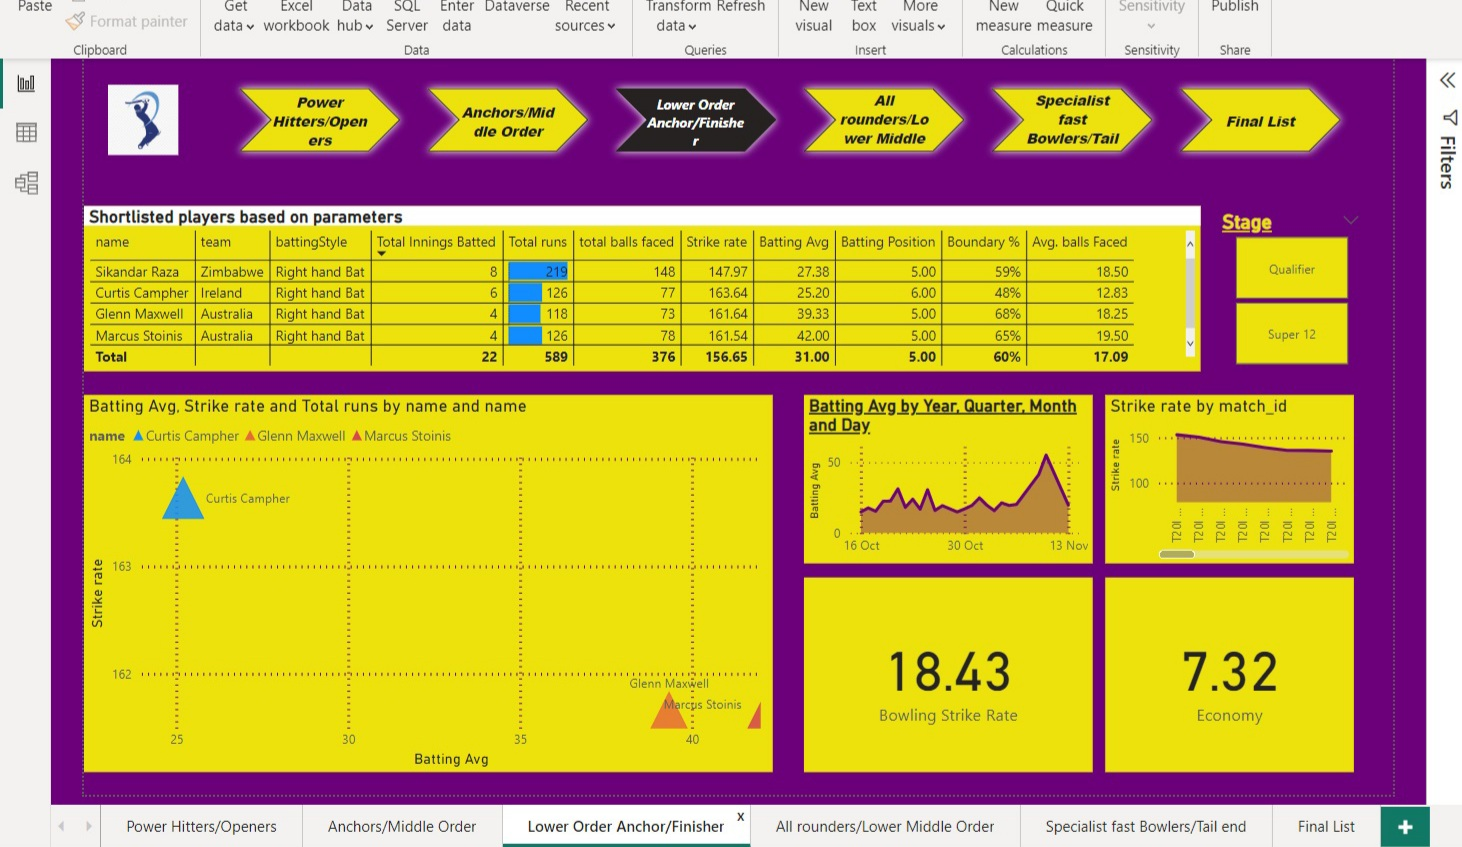

This screenshot's page, from the dashboard's own definition file:
{"tool":"powerbi","page":{"name":"Lower Order Anchor/Finisher","canvas":[1280,720],"ordinal":2},"visuals":[{"type":"tableEx","title":"Shortlisted players based on parameters","fields":{"Values":["dim_players.name","dim_players.team","dim_players.battingStyle","key_measures.Total Innings Batted","key_measures.Total runs","key_measures.total balls faced","key_measures.Strike rate","key_measures.Batting Avg","key_measures.Batting Position","key_measures.Boundary %","key_measures.Avg. balls Faced"]},"box":[0,144.2,1091.6,161.4],"z":0},{"type":"scatterChart","fields":{"Y":["key_measures.Strike rate"],"X":["key_measures.Batting Avg"],"Category":["dim_players.name"],"Series":["dim_players.name"],"Size":["key_measures.Total runs"]},"box":[0,328.8,673.5,369.2],"z":1000},{"type":"areaChart","fields":{"Y":["key_measures.Batting Avg"],"Category":["dim_match_summary.matchDate.Variation.Date Hierarchy.Year","dim_match_summary.matchDate.Variation.Date Hierarchy.Quarter","dim_match_summary.matchDate.Variation.Date Hierarchy.Month","dim_match_summary.matchDate.Variation.Date Hierarchy.Day"]},"box":[704.1,328.8,282.4,165],"z":2000},{"type":"card","fields":{"Values":["key_measures.Bowling Strike Rate"]},"box":[704.1,507.3,282.4,190.7],"z":3000},{"type":"areaChart","fields":{"Y":["key_measures.Strike rate"],"Category":["dim_match_summary.match_id"]},"box":[998.7,328.8,243.3,165],"z":4000},{"type":"card","fields":{"Values":["key_measures.Economy"]},"box":[998.7,507.3,243.3,190.7],"z":5000},{"type":"slicer","fields":{"Values":["dim_match_summary.Stage"]},"box":[1100.2,144.2,160.1,161.4],"z":6000},{"type":"pageNavigator","box":[143,20.8,1098.9,78.2],"z":7000},{"type":"image","box":[14.7,20.8,86.8,78.2],"z":8000}]}

Visuals, with their boxes on the page's 1280x720 design canvas (x1, y1, x2, y2). These are canvas units, not pixel positions in the 1462x847 screenshot, which may show the page scaled, cropped or inside an application window:
"Shortlisted players based on parameters" tableEx: 0, 144, 1092, 306
scatterChart - key_measures.Strike rate x key_measures.Batting Avg: 0, 329, 674, 698
areaChart - key_measures.Batting Avg x dim_match_summary.matchDate.Variation.Date Hierarchy.Year: 704, 329, 986, 494
card - key_measures.Bowling Strike Rate: 704, 507, 986, 698
areaChart - key_measures.Strike rate x dim_match_summary.match_id: 999, 329, 1242, 494
card - key_measures.Economy: 999, 507, 1242, 698
slicer - dim_match_summary.Stage: 1100, 144, 1260, 306
pageNavigator: 143, 21, 1242, 99
image: 15, 21, 102, 99
